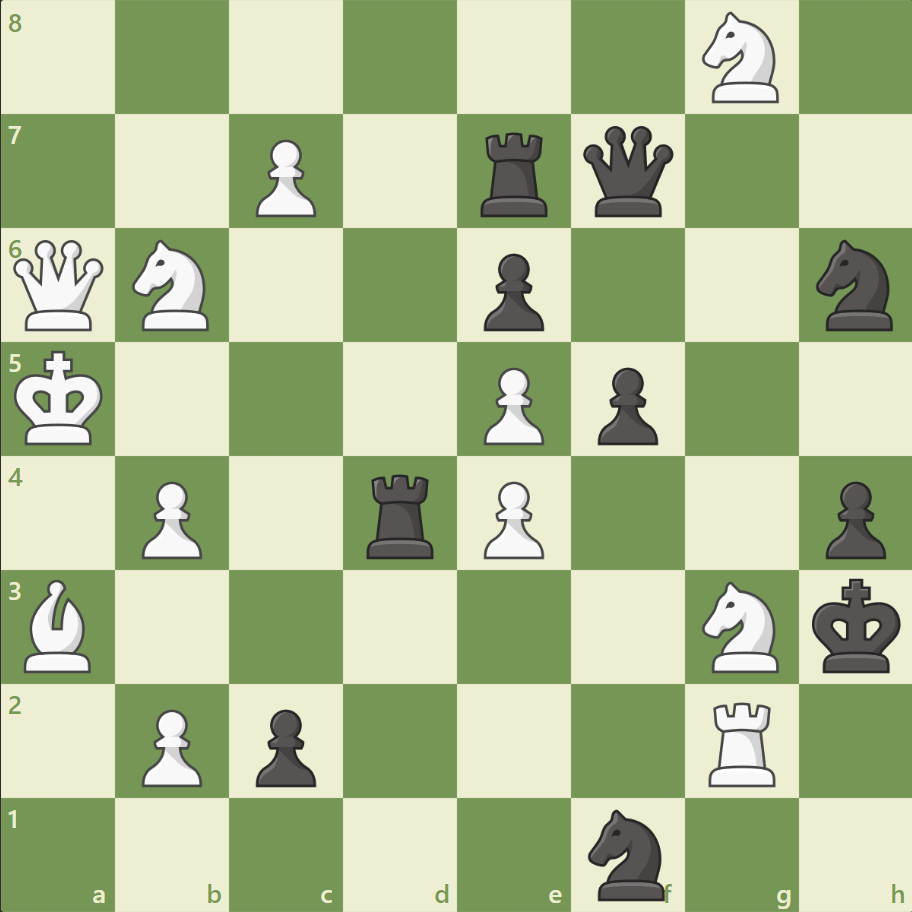B: (17, 574, 101, 676)
K: (11, 344, 111, 452)
N: (124, 234, 222, 337), (692, 7, 789, 110), (692, 575, 789, 677)
P: (247, 132, 322, 223), (474, 359, 549, 450), (133, 473, 208, 564), (474, 473, 549, 564), (133, 700, 208, 791)
Q: (10, 236, 109, 335)
R: (700, 693, 783, 790)
k: (806, 571, 906, 679)
n: (806, 234, 903, 337), (579, 802, 676, 904)
p: (474, 246, 549, 337), (247, 700, 322, 791), (588, 359, 662, 450), (815, 473, 889, 564)
q: (578, 122, 677, 222)
r: (473, 125, 556, 222), (360, 466, 442, 563)
